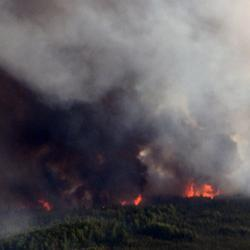fire: (183, 181, 224, 198), (131, 196, 144, 204)
smoke: (43, 12, 203, 106)
